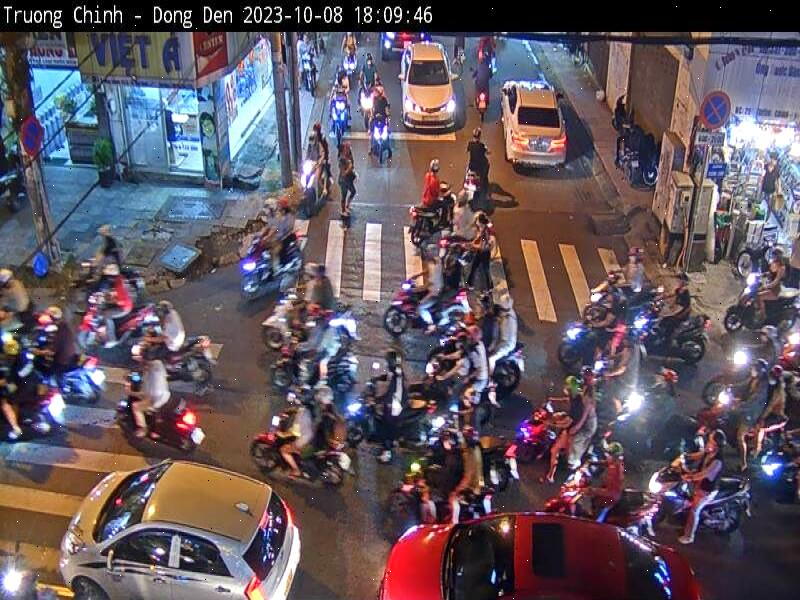car: (60, 459, 303, 600), (375, 509, 709, 600), (500, 76, 568, 169), (400, 40, 458, 132)
